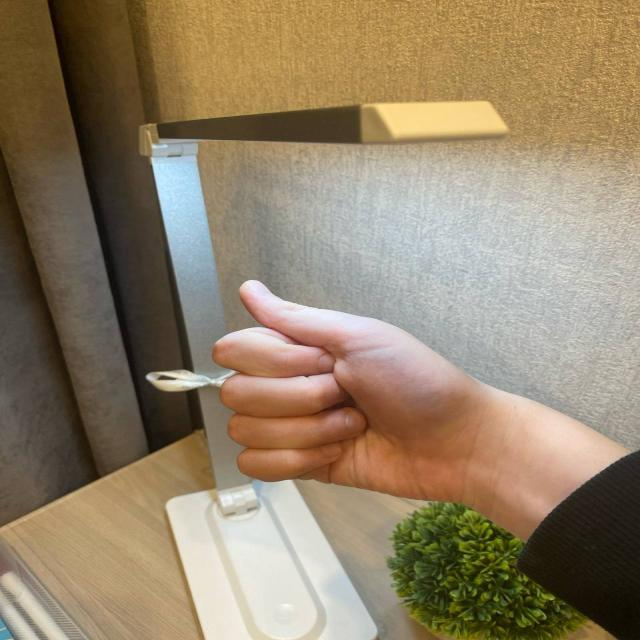a: (189, 270, 464, 492)
